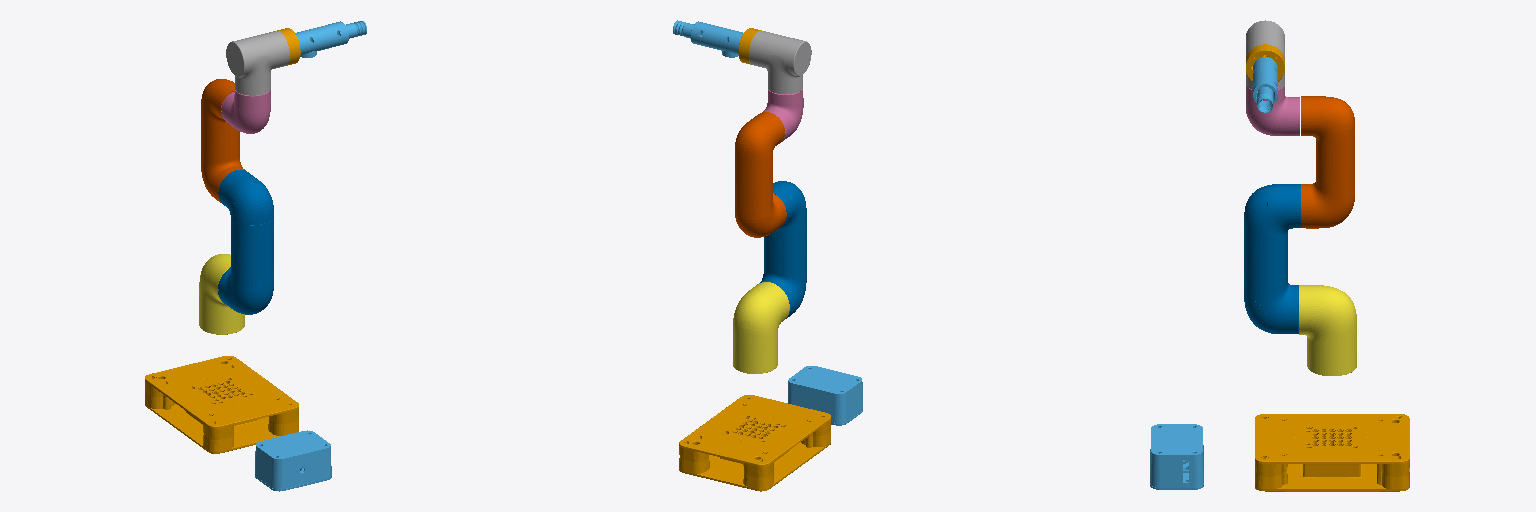
URDF robot description (firefighter):
<?xml version='1.0' encoding='utf-8'?>
<robot name="firefighter">
  <link name="g_base">
    <!-- placeholder inertial added by normalize_urdf.py - replace with CAD values -->
    <inertial>
      <origin xyz="0 0 0" rpy="0 0 0" />
      <mass value="0.1" />
      <inertia ixx="3.600e-05" ixy="0" ixz="0" iyy="3.600e-05" iyz="0" izz="3.600e-05" />
    </inertial>
    <visual>
      <geometry>
        <mesh filename="../../meshes/flat/G_base.stl" />
      </geometry>
      <origin xyz="0.0 0 -0.03" rpy="0 0 1.5708" />
    </visual>
    <collision>
      <geometry>
        <mesh filename="../../meshes/flat/G_base.stl" />
      </geometry>
      <origin xyz="0.0 0 -0.03" rpy="0 0 1.5708" />
    </collision>
  </link>
  <link name="pump_box">
    <!-- placeholder inertial added by normalize_urdf.py - replace with CAD values -->
    <inertial>
      <origin xyz="0 0 0" rpy="0 0 0" />
      <mass value="0.1" />
      <inertia ixx="3.600e-05" ixy="0" ixz="0" iyy="3.600e-05" iyz="0" izz="3.600e-05" />
    </inertial>
    <visual>
      <geometry>
        <mesh filename="../../meshes/flat/pump_box.stl" />
      </geometry>
      <origin xyz="0.0 -0.15 -0.0" rpy="1.5708 3.14159 0" />
    </visual>
    <!-- collision origin aligned with visual (was copy-pasted from the mirrored link) -->
    <collision>
      <geometry>
        <mesh filename="../../meshes/flat/pump_box.stl" />
      </geometry>
      <origin xyz="0.0 -0.15 -0.0" rpy="1.5708 3.14159 0" />
    </collision>
  </link>
  <link name="joint1">
    <!-- placeholder inertial added by normalize_urdf.py - replace with CAD values -->
    <inertial>
      <origin xyz="0 0 0" rpy="0 0 0" />
      <mass value="0.1" />
      <inertia ixx="3.600e-05" ixy="0" ixz="0" iyy="3.600e-05" iyz="0" izz="3.600e-05" />
    </inertial>
    <visual>
      <geometry>
        <!--- 0.0 0 -0.04  1.5708 3.14159-->
        <mesh filename="../../meshes/flat/joint1_pi.stl" />
      </geometry>
      <origin xyz="0.0 0 0 " rpy=" 0 0 0" />
    </visual>
    <collision>
      <geometry>
        <!--- 0.0 0 -0.04  1.5708 3.14159-->
        <mesh filename="../../meshes/flat/joint1_pi.stl" />
      </geometry>
      <origin xyz="0.0 0 0 " rpy=" 0 0 0" />
    </collision>
  </link>
  <link name="joint2">
    <!-- placeholder inertial added by normalize_urdf.py - replace with CAD values -->
    <inertial>
      <origin xyz="0 0 0" rpy="0 0 0" />
      <mass value="0.1" />
      <inertia ixx="3.600e-05" ixy="0" ixz="0" iyy="3.600e-05" iyz="0" izz="3.600e-05" />
    </inertial>
    <visual>
      <geometry>
        <mesh filename="../../meshes/joint2.dae" />
      </geometry>
      <origin xyz="0.0 0 -0.06096 " rpy=" 0 0 -1.5708" />
    </visual>
    <collision>
      <geometry>
        <mesh filename="../../meshes/joint2.dae" />
      </geometry>
      <origin xyz="0.0 0 -0.06096 " rpy=" 0 0 -1.5708" />
    </collision>
  </link>
  <link name="joint3">
    <!-- placeholder inertial added by normalize_urdf.py - replace with CAD values -->
    <inertial>
      <origin xyz="0 0 0" rpy="0 0 0" />
      <mass value="0.1" />
      <inertia ixx="3.600e-05" ixy="0" ixz="0" iyy="3.600e-05" iyz="0" izz="3.600e-05" />
    </inertial>
    <visual>
      <geometry>
        <mesh filename="../../meshes/joint3.dae" />
      </geometry>
      <origin xyz="0.0 0 0.03256 " rpy=" 0 -1.5708 0" />
    </visual>
    <collision>
      <geometry>
        <mesh filename="../../meshes/joint3.dae" />
      </geometry>
      <origin xyz="0.0 0 0.03256 " rpy=" 0 -1.5708 0" />
    </collision>
  </link>
  <link name="joint4">
    <!-- placeholder inertial added by normalize_urdf.py - replace with CAD values -->
    <inertial>
      <origin xyz="0 0 0" rpy="0 0 0" />
      <mass value="0.1" />
      <inertia ixx="3.600e-05" ixy="0" ixz="0" iyy="3.600e-05" iyz="0" izz="3.600e-05" />
    </inertial>
    <visual>
      <geometry>
        <!--- 0.0 0 -0.04 -->
        <mesh filename="../../meshes/joint4.dae" />
      </geometry>
      <origin xyz="0.0 0 0.03056 " rpy=" 0 -1.5708 0" />
    </visual>
    <collision>
      <geometry>
        <!--- 0.0 0 -0.04 -->
        <mesh filename="../../meshes/joint4.dae" />
      </geometry>
      <origin xyz="0.0 0 0.03056 " rpy=" 0 -1.5708 0" />
    </collision>
  </link>
  <link name="joint5">
    <!-- placeholder inertial added by normalize_urdf.py - replace with CAD values -->
    <inertial>
      <origin xyz="0 0 0" rpy="0 0 0" />
      <mass value="0.1" />
      <inertia ixx="3.600e-05" ixy="0" ixz="0" iyy="3.600e-05" iyz="0" izz="3.600e-05" />
    </inertial>
    <visual>
      <geometry>
        <!--- 0.0 0 -0.04 -->
        <mesh filename="../../meshes/flat/joint5.stl" />
      </geometry>
      <origin xyz="0.0 0 -0.03356 " rpy=" 0 -1.5708 1.5708" />
    </visual>
    <collision>
      <geometry>
        <!--- 0.0 0 -0.04 -->
        <mesh filename="../../meshes/flat/joint5.stl" />
      </geometry>
      <origin xyz="0.0 0 -0.03356 " rpy=" 0 -1.5708 1.5708" />
    </collision>
  </link>
  <link name="joint6">
    <!-- placeholder inertial added by normalize_urdf.py - replace with CAD values -->
    <inertial>
      <origin xyz="0 0 0" rpy="0 0 0" />
      <mass value="0.1" />
      <inertia ixx="3.600e-05" ixy="0" ixz="0" iyy="3.600e-05" iyz="0" izz="3.600e-05" />
    </inertial>
    <visual>
      <geometry>
        <!--- 0.0 0 -0.04 -->
        <mesh filename="../../meshes/joint6.dae" />
      </geometry>
      <origin xyz="0 0.00 -0.038 " rpy=" 0 0 0" />
    </visual>
    <collision>
      <geometry>
        <!--- 0.0 0 -0.04 -->
        <mesh filename="../../meshes/joint6.dae" />
      </geometry>
      <origin xyz="0 0.00 -0.038 " rpy=" 0 0 0" />
    </collision>
  </link>
  <link name="joint6_flange">
    <!-- placeholder inertial added by normalize_urdf.py - replace with CAD values -->
    <inertial>
      <origin xyz="0 0 0" rpy="0 0 0" />
      <mass value="0.1" />
      <inertia ixx="3.600e-05" ixy="0" ixz="0" iyy="3.600e-05" iyz="0" izz="3.600e-05" />
    </inertial>
    <visual>
      <geometry>
        <!--- 0.0 0 -0.04 -->
        <mesh filename="../../meshes/joint7.dae" />
      </geometry>
      <origin xyz="0.0 0 -0.012 " rpy=" 0 0 0" />
    </visual>
    <collision>
      <geometry>
        <!--- 0.0 0 -0.04 -->
        <mesh filename="../../meshes/joint7.dae" />
      </geometry>
      <origin xyz="0.0 0 -0.012 " rpy=" 0 0 0" />
    </collision>
  </link>
  <link name="pump_head">
    <!-- placeholder inertial added by normalize_urdf.py - replace with CAD values -->
    <inertial>
      <origin xyz="0 0 0" rpy="0 0 0" />
      <mass value="0.1" />
      <inertia ixx="3.600e-05" ixy="0" ixz="0" iyy="3.600e-05" iyz="0" izz="3.600e-05" />
    </inertial>
    <visual>
      <geometry>
        <mesh filename="../../meshes/flat/pump_head.stl" />
      </geometry>
      <origin xyz="0.0 -0.008 0.0 " rpy=" 0 0 0" />
    </visual>
    <collision>
      <geometry>
        <mesh filename="../../meshes/flat/pump_head.stl" />
      </geometry>
      <origin xyz="0.0 -0.008 0.0 " rpy=" 0 0 0" />
    </collision>
  </link>
  <joint name="g_base_to_joint1" type="fixed">
    <axis xyz="0 0 0" />
    <limit effort="1000.0" lower="-3.14" upper="3.14159" velocity="0" />
    <parent link="g_base" />
    <child link="joint1" />
    <origin xyz="0 0 0" rpy="0 0 0" />
  </joint>
  <joint name="g_base_to_pump_box" type="fixed">
    <axis xyz="0 0 0" />
    <limit effort="1000.0" lower="-3.14" upper="3.14159" velocity="0" />
    <parent link="g_base" />
    <child link="pump_box" />
    <origin xyz="0 0 0" rpy="0 0 0" />
  </joint>
  <joint name="joint2_to_joint1" type="revolute">
    <axis xyz="0 0 1" />
    <limit effort="1000.0" lower="-3.14" upper="3.14159" velocity="2" />
    <parent link="joint1" />
    <child link="joint2" />
    <origin xyz="0 0 0.13956" rpy="0 0 0" />
  </joint>
  <joint name="joint3_to_joint2" type="revolute">
    <axis xyz="0 0 1" />
    <limit effort="1000.0" lower="-3.14" upper="3.14159" velocity="2" />
    <parent link="joint2" />
    <child link="joint3" />
    <origin xyz="0 0 -0.001" rpy="0 1.5708 -1.5708" />
  </joint>
  <joint name="joint4_to_joint3" type="revolute">
    <axis xyz=" 0 0 1" />
    <limit effort="1000.0" lower="-3.14" upper="3.14159" velocity="2" />
    <parent link="joint3" />
    <child link="joint4" />
    <origin xyz="  -0.1104 0 0   " rpy="0 0 0" />
  </joint>
  <joint name="joint5_to_joint4" type="revolute">
    <axis xyz=" 0 0 1" />
    <limit effort="1000.0" lower="-3.14" upper="3.14159" velocity="2" />
    <parent link="joint4" />
    <child link="joint5" />
    <origin xyz="-0.096 0 0.06462" rpy="0 0 -1.5708" />
  </joint>
  <joint name="joint6_to_joint5" type="revolute">
    <axis xyz="0 0 1" />
    <limit effort="1000.0" lower="-3.14" upper="3.14159" velocity="2" />
    <parent link="joint5" />
    <child link="joint6" />
    <origin xyz="0 -0.07318 0" rpy="1.5708 -1.5708 0" />
  </joint>
  <joint name="joint6output_to_joint6" type="revolute">
    <axis xyz="0 0 1" />
    <limit effort="1000.0" lower="-3.14" upper="3.14159" velocity="2" />
    <parent link="joint6" />
    <child link="joint6_flange" />
    <origin xyz="0 0.0456 0" rpy="-1.5708 0 0" />
  </joint>
  <joint name="joint6output_to_pump_head" type="fixed">
    <!-- <axis xyz="0 0 1"/>
    <limit effort = "1000.0" lower = "-3.14" upper = "3.14159" velocity = "0"/> -->
    <parent link="joint6_flange" />
    <child link="pump_head" />
    <!-- <origin xyz= "0 0.0 0" rpy = "-1.5708 0 0"/>   -->
    <origin xyz="0 0 0.01" rpy="1.579 0 0" />
  </joint>
</robot>

--- Render facts (derived) ---
3 views of the same robot in one strip: view 1: azimuth 30°, elevation 25°; view 2: azimuth 150°, elevation 25°; view 3: azimuth 270°, elevation 25° (orthographic).
Model firefighter with 10 links and 9 joints (6 revolute, 3 fixed), rooted at g_base, posed every joint at zero.
Visible links, largest first — view 1: g_base, joint3, pump_box, joint4, joint6, joint2, joint5, pump_head; view 2: g_base, joint4, joint2, joint3, pump_box, joint6, pump_head, joint5; view 3: g_base, joint3, joint4, joint2, pump_box, joint5, pump_head, joint6, joint6_flange.
Link boxes in pixels (left/top/right/bottom): g_base: left=145, top=356, right=298, bottom=453; joint3: left=218, top=170, right=273, bottom=314; pump_box: left=255, top=430, right=331, bottom=491; joint4: left=201, top=79, right=245, bottom=202; joint6: left=226, top=31, right=289, bottom=95; joint2: left=199, top=254, right=244, bottom=334; joint5: left=221, top=90, right=270, bottom=133; pump_head: left=295, top=21, right=366, bottom=57; g_base: left=679, top=395, right=830, bottom=491; joint4: left=735, top=112, right=786, bottom=237; joint2: left=733, top=282, right=789, bottom=373; joint3: left=760, top=181, right=806, bottom=318; pump_box: left=788, top=366, right=862, bottom=425; joint6: left=749, top=31, right=811, bottom=93; pump_head: left=673, top=20, right=743, bottom=57; joint5: left=763, top=89, right=803, bottom=143; g_base: left=1255, top=414, right=1409, bottom=491; joint3: left=1244, top=184, right=1300, bottom=333; joint4: left=1301, top=96, right=1354, bottom=228; joint2: left=1299, top=285, right=1356, bottom=375; pump_box: left=1150, top=424, right=1203, bottom=489; joint5: left=1246, top=85, right=1299, bottom=135; pump_head: left=1253, top=57, right=1277, bottom=112; joint6: left=1246, top=20, right=1284, bottom=89; joint6_flange: left=1246, top=44, right=1284, bottom=81.
Size in the robot's own frame: 0.1899 by 0.251 by 0.4743 metres.
9 mesh visuals loaded from 10 distinct referenced files (4 binary STL, 5 Collada DAE); not drawn: 1 (reference not matched to a file when rendering).
